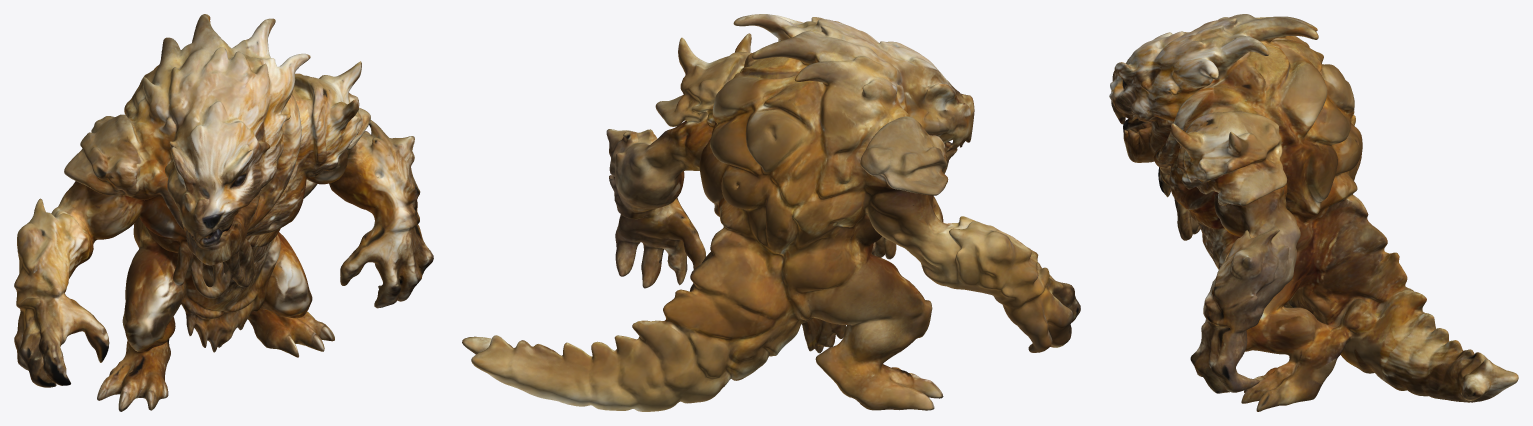
File: A_hyper_realistic_3D__0209190244_texture.fbx
The picture shows the model from 3 angles, left to right: view 1: azimuth 30°, elevation 25°; view 2: azimuth 150°, elevation 25°; view 3: azimuth 270°, elevation 25°; orthographic projection. The views are drawn at different scales.
Visible parts, largest first — view 1: Mesh1_Mesh1.310; view 2: Mesh1_Mesh1.310; view 3: Mesh1_Mesh1.310.
Part boxes in pixels (bbox=[...]): Mesh1_Mesh1.310: bbox=[14, 14, 433, 411]; Mesh1_Mesh1.310: bbox=[462, 14, 1080, 411]; Mesh1_Mesh1.310: bbox=[1109, 14, 1518, 411].
Size of the model in its own units: 410 by 300 by 328.
1 material, 1 textured.
